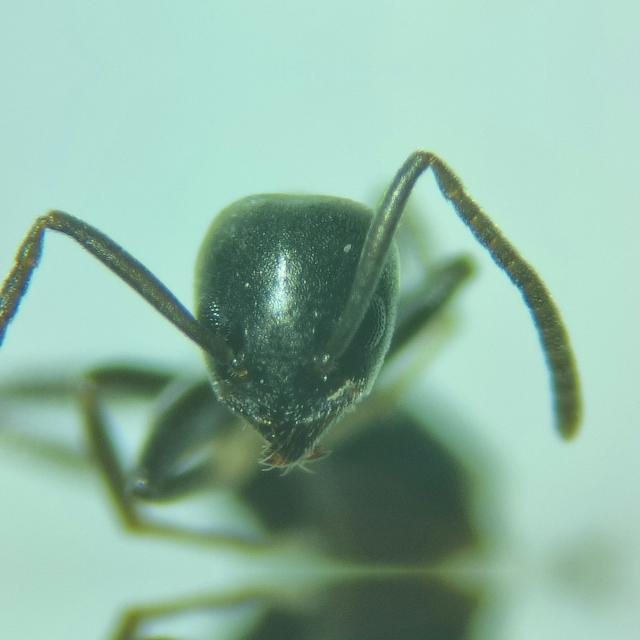Tapinoma: (12, 146, 622, 558)
